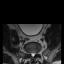CCS_stenosis: (32, 51, 33, 58)
LFS_severe_stenosis: (35, 50, 37, 55)
LLS_normal: (33, 51, 35, 57)
RFS_stenosis: (28, 50, 30, 55)
RLS_normal: (30, 51, 32, 56)
